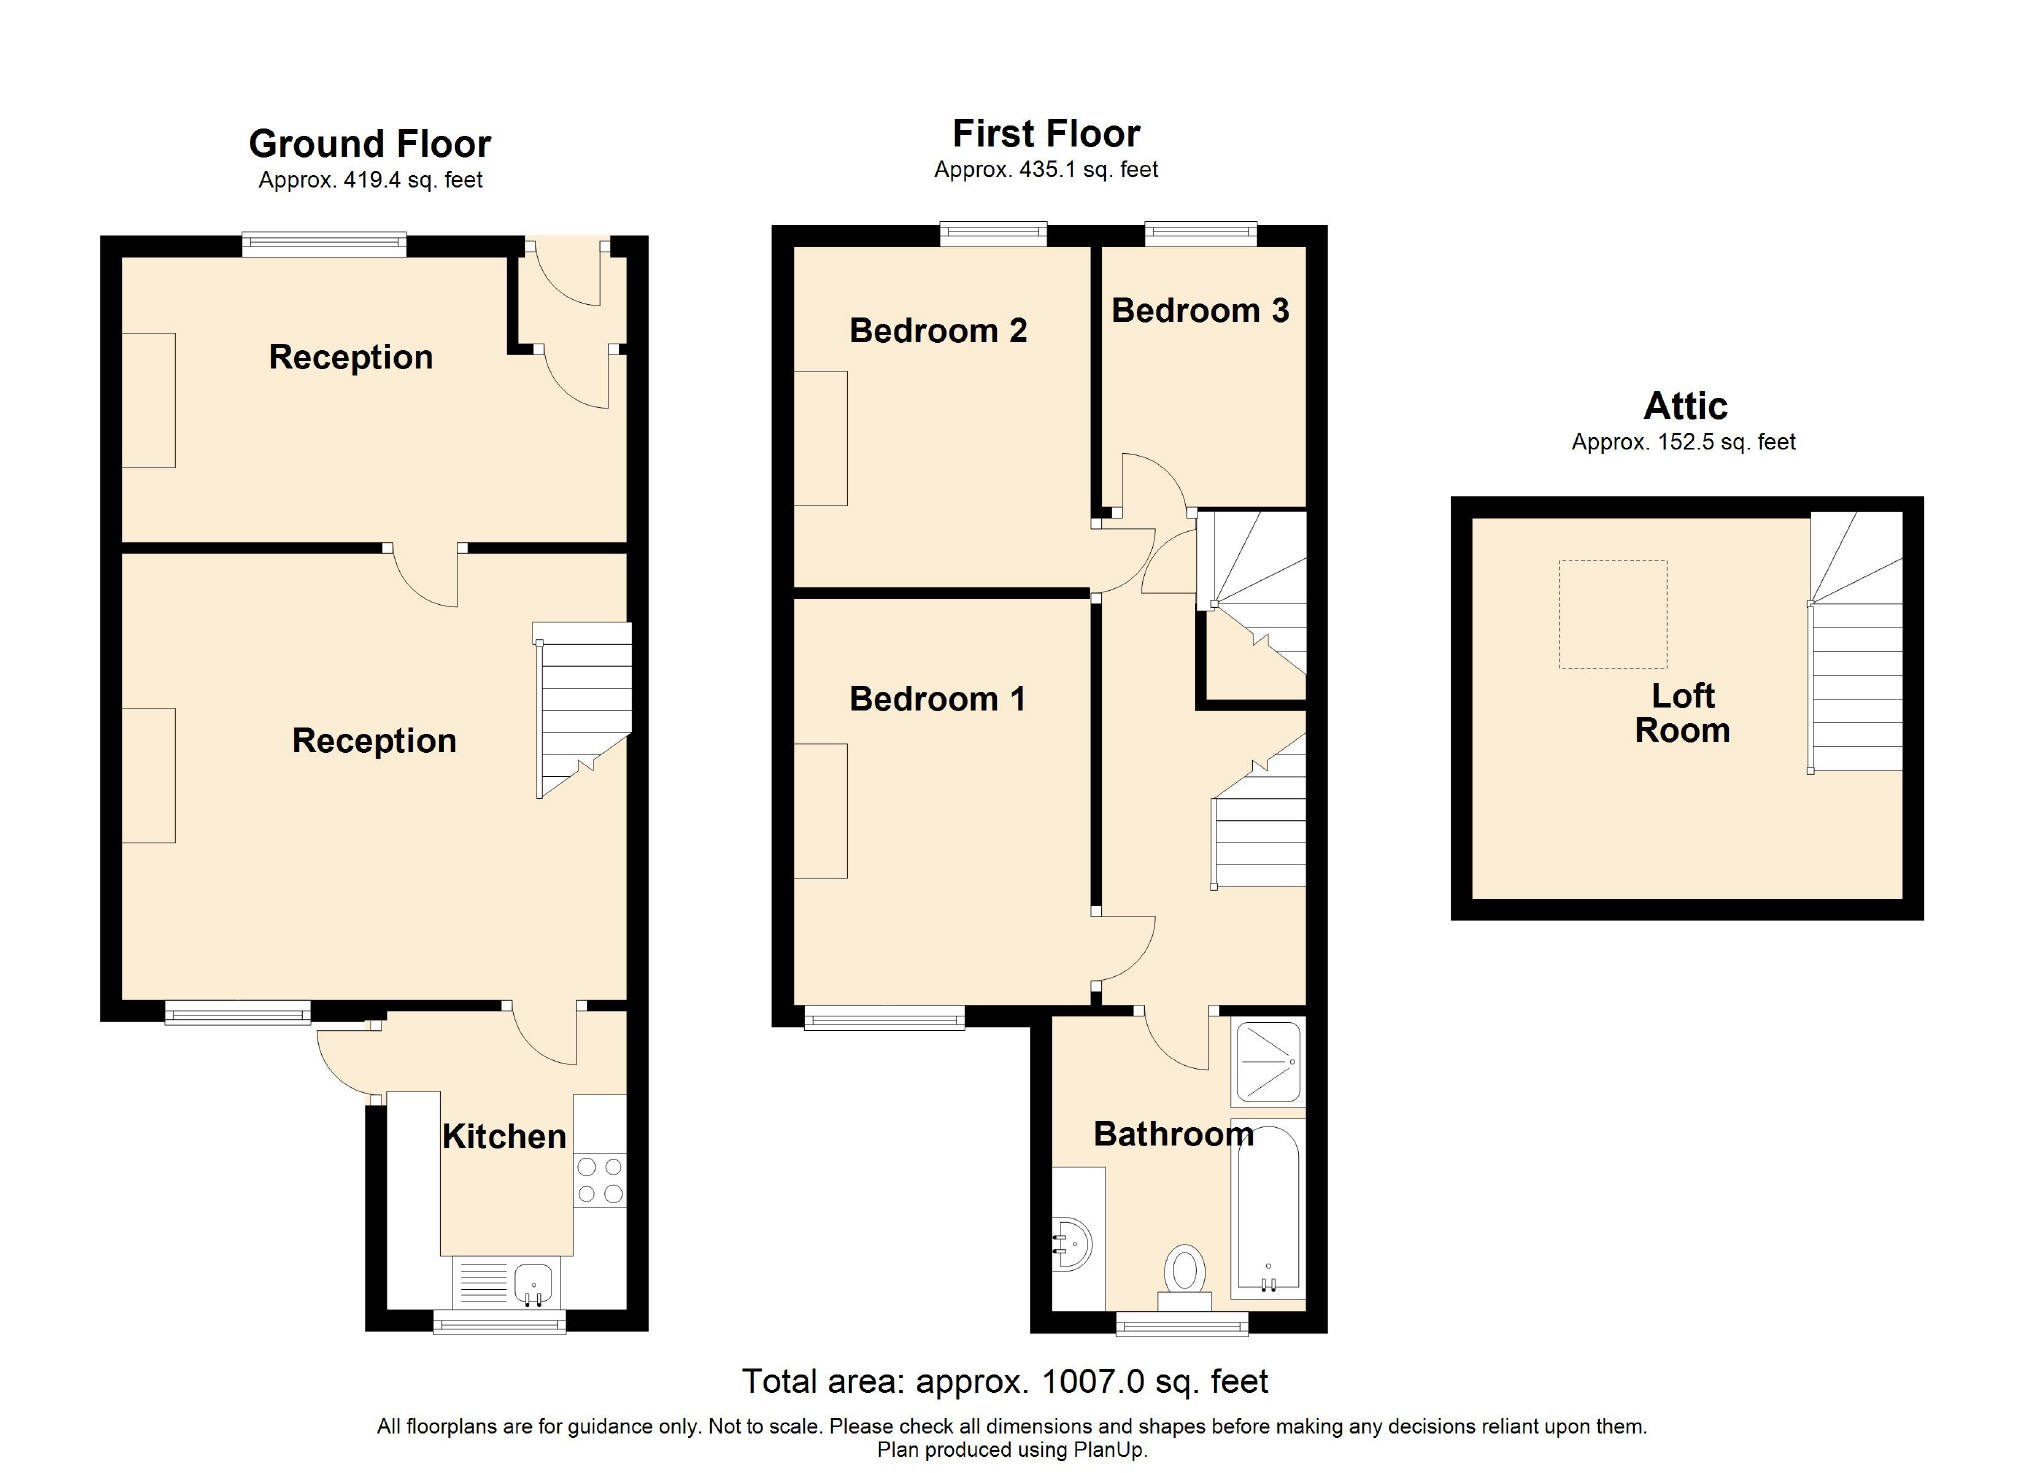door: (1137, 1020, 1220, 1078), (1104, 905, 1168, 979), (1123, 536, 1198, 599), (1115, 442, 1190, 505), (539, 354, 615, 417), (511, 1011, 586, 1074), (528, 255, 604, 318), (388, 553, 462, 616), (1105, 527, 1163, 594), (313, 1027, 363, 1104)
